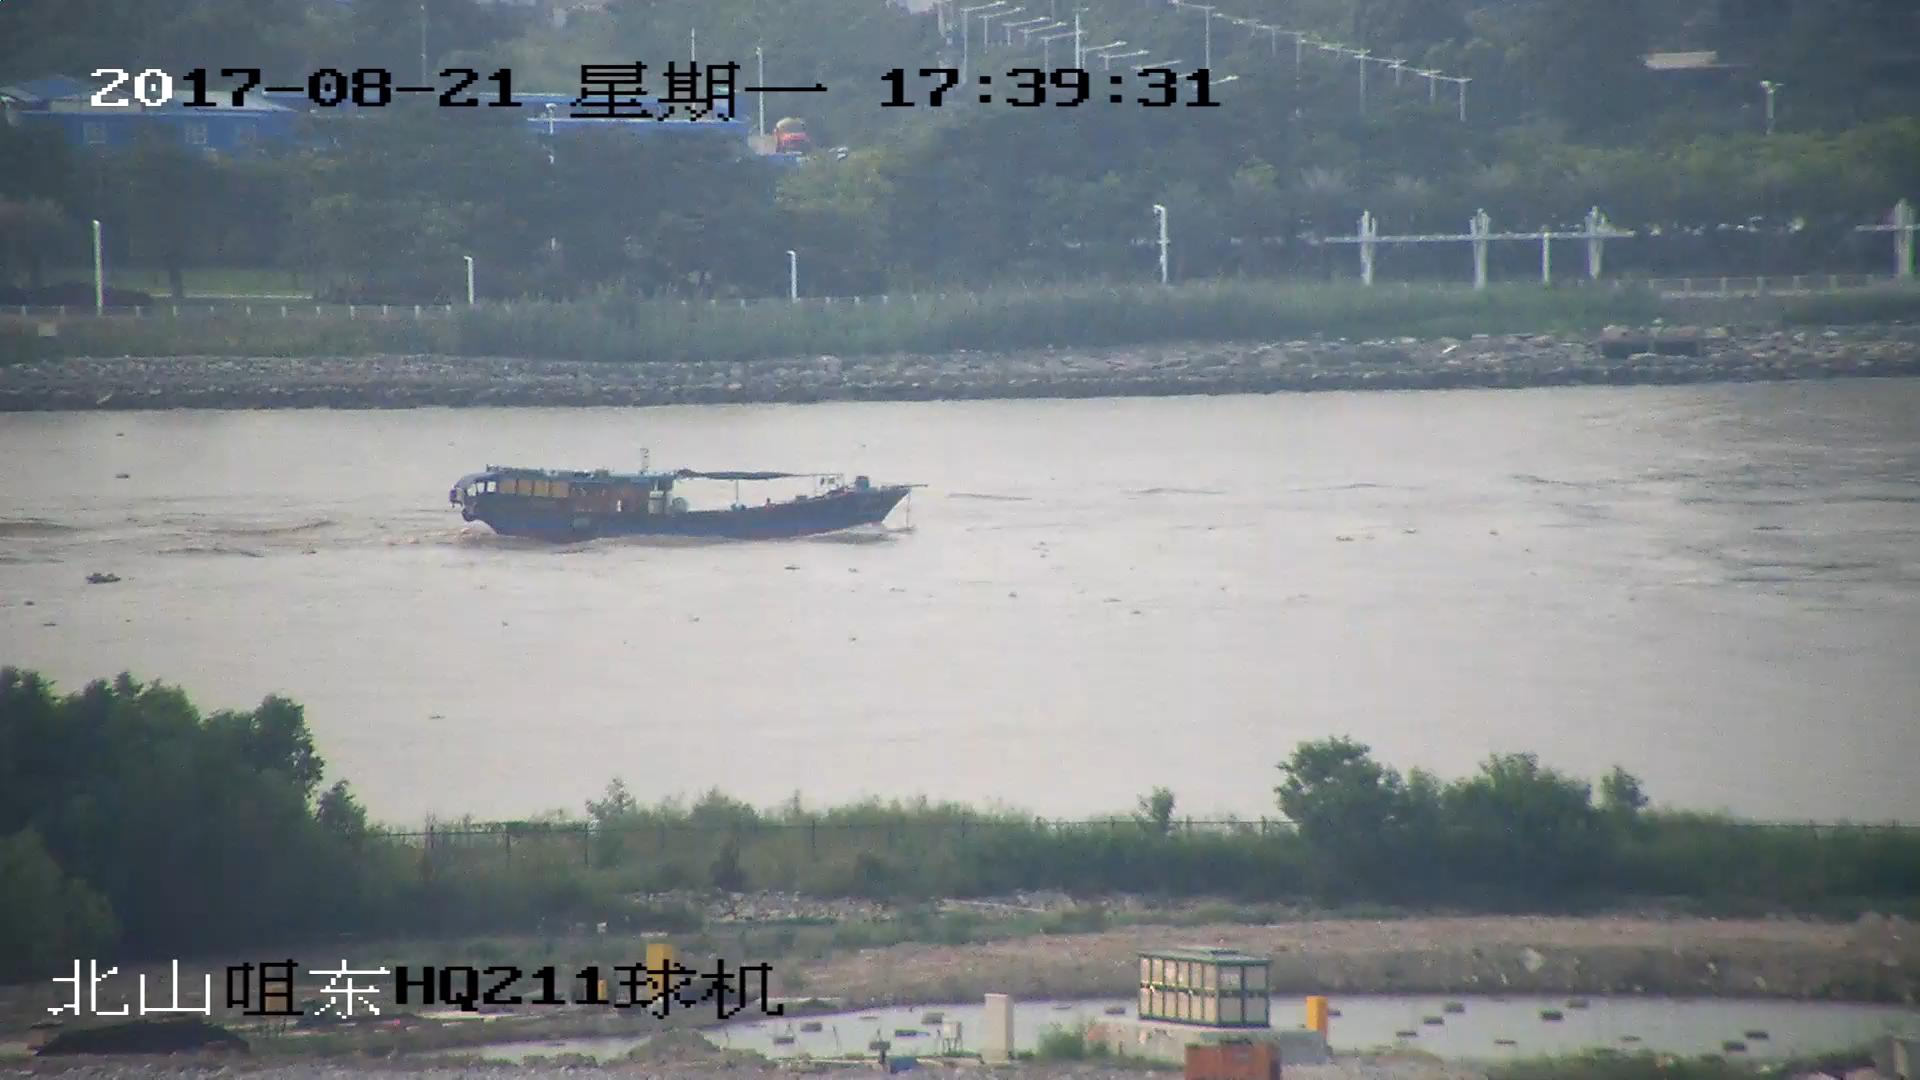fishing boat: (452, 458, 911, 541)
